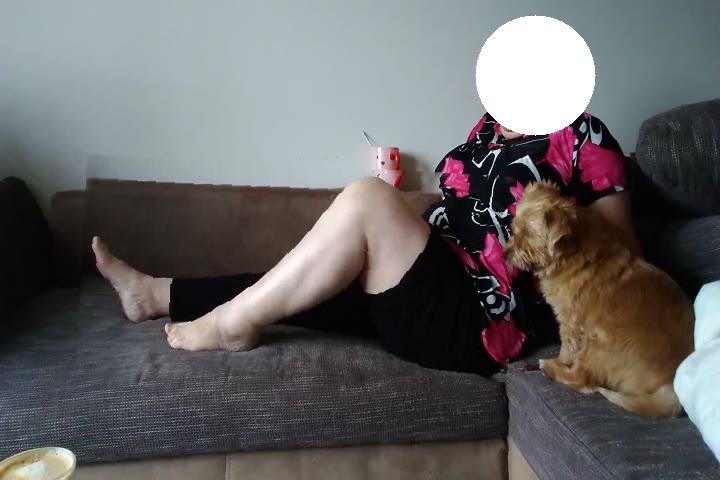lower_body: (80, 161, 516, 378)
